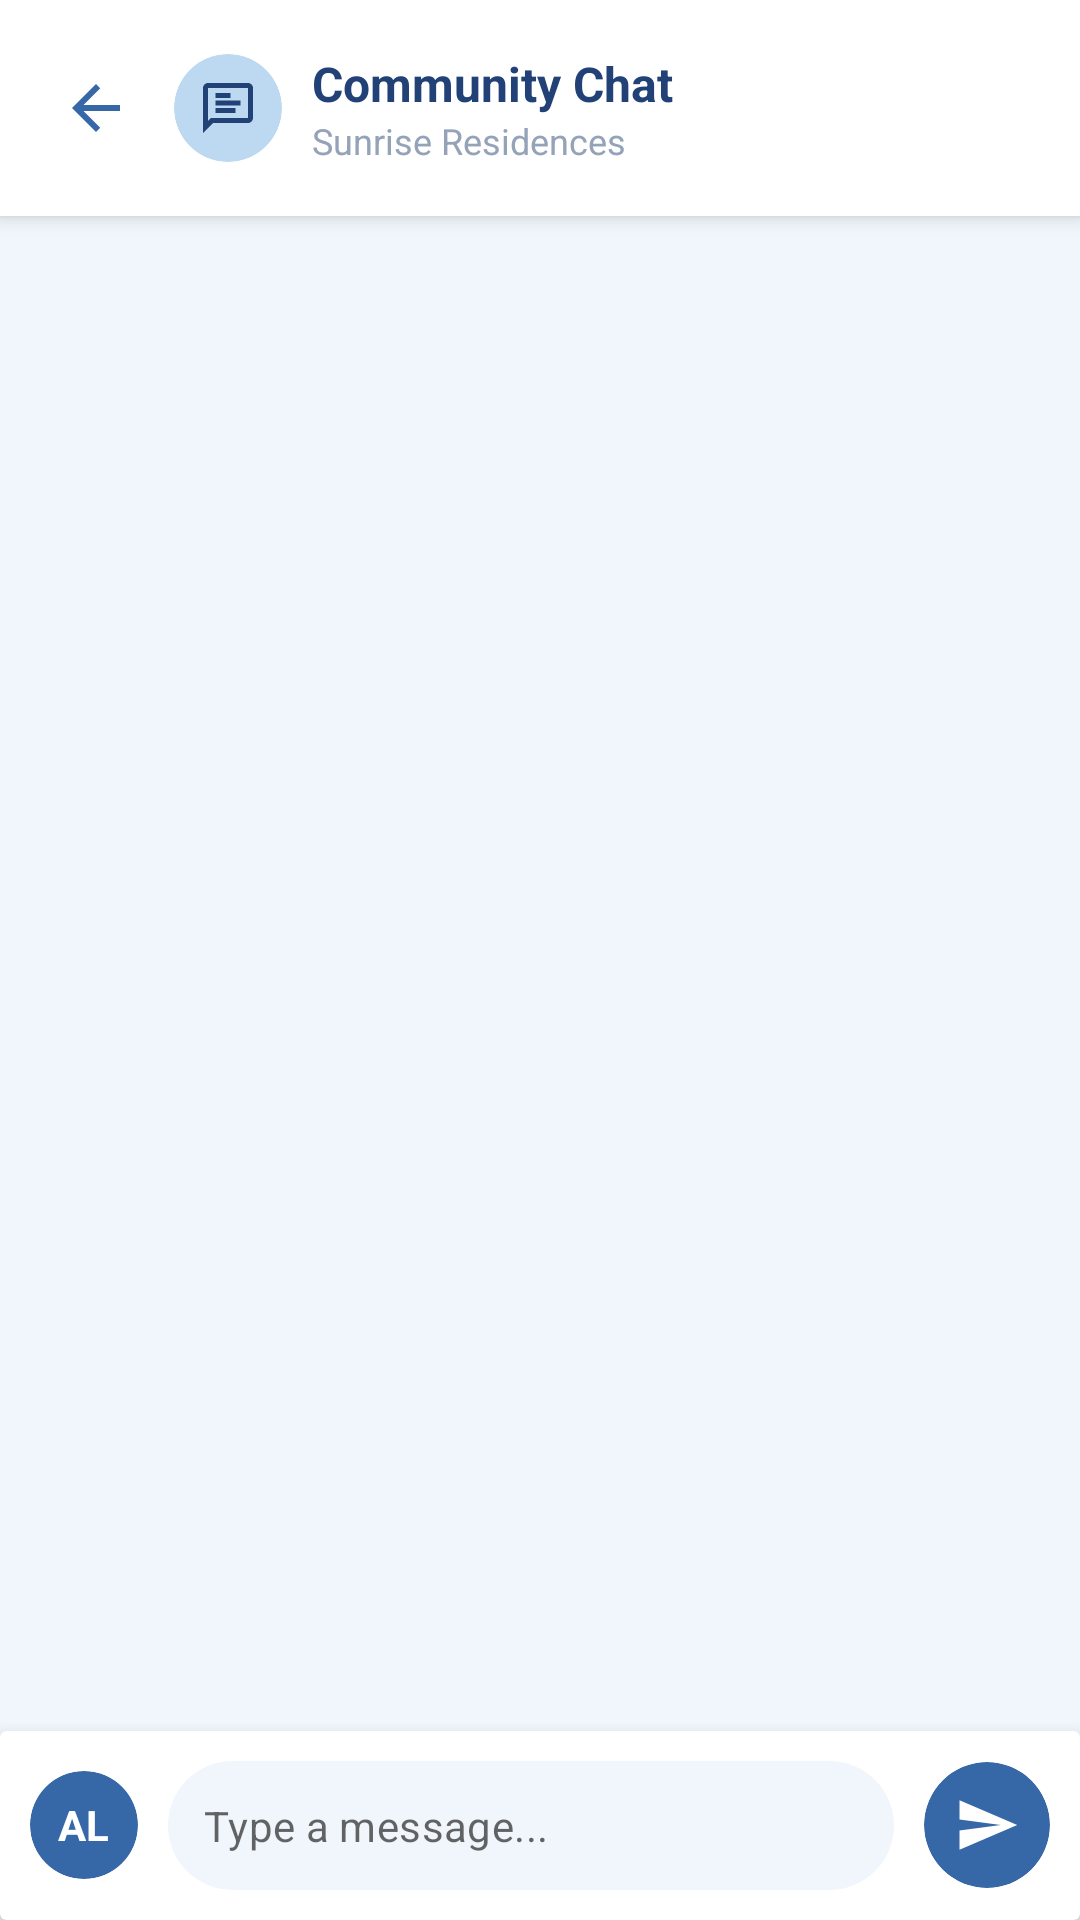

Icons on this 1080 x 1920 Android screen, each with its box as [x1, y1, x2, y2]:
arrow back: [72, 84, 120, 132]
send: [959, 1800, 1017, 1850]
